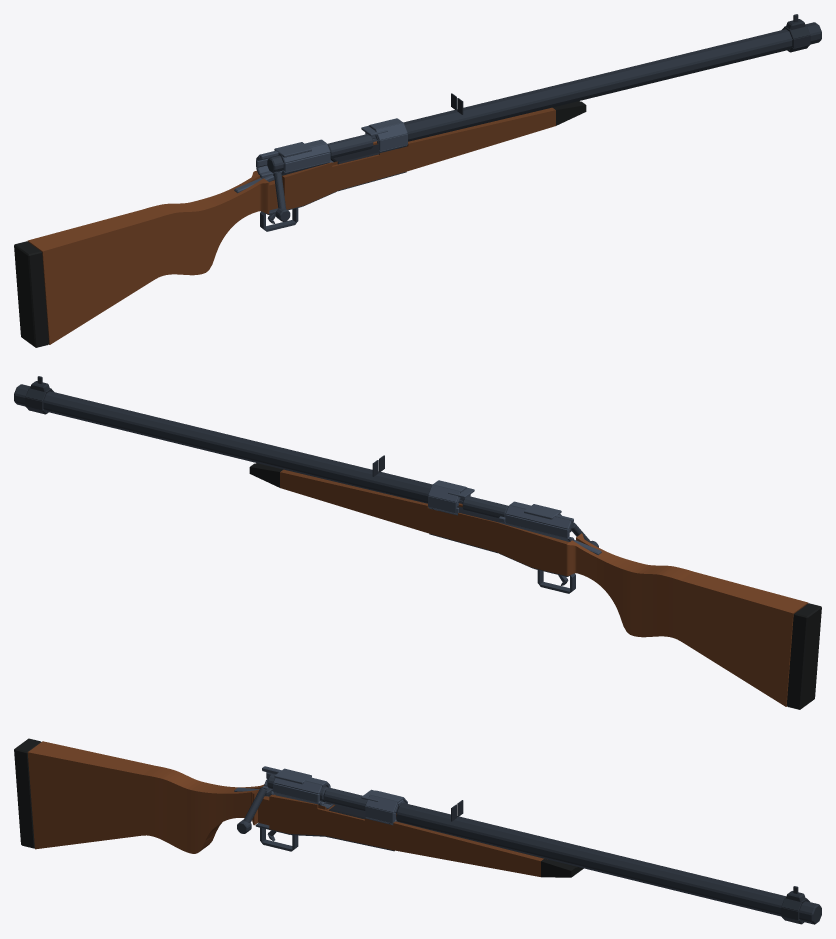
The model's file is rifle_hunting.glb.
3 views of the same model, one above another, from view 1: azimuth 30°, elevation 25°; view 2: azimuth 150°, elevation 25°; view 3: azimuth 330°, elevation 25° (orthographic).
Parts seen in each view (by area): view 1: stock:stock, barrel:barrel, handguard:handguard, receiver:receiver, bolt-carrier:bolt-carrier, lower:lower, front-sight:front-sight; view 2: stock:stock, barrel:barrel, handguard:handguard, receiver:receiver, bolt-carrier:bolt-carrier, front-sight:front-sight, lower:lower; view 3: stock:stock, barrel:barrel, handguard:handguard, receiver:receiver, bolt-carrier:bolt-carrier, lower:lower, front-sight:front-sight.
Boxes of the visible parts, x1,y1,x2,y2 form: stock:stock: [14, 171, 269, 347]; barrel:barrel: [403, 22, 821, 141]; handguard:handguard: [255, 101, 586, 210]; receiver:receiver: [234, 118, 407, 193]; bolt-carrier:bolt-carrier: [267, 134, 373, 176]; lower:lower: [260, 171, 406, 231]; front-sight:front-sight: [782, 14, 810, 52]; stock:stock: [566, 533, 821, 709]; barrel:barrel: [14, 384, 432, 503]; handguard:handguard: [249, 463, 569, 575]; receiver:receiver: [428, 480, 601, 555]; bolt-carrier:bolt-carrier: [462, 496, 571, 532]; front-sight:front-sight: [25, 376, 53, 414]; lower:lower: [429, 533, 575, 593]; stock:stock: [14, 738, 264, 853]; barrel:barrel: [396, 803, 821, 924]; handguard:handguard: [258, 794, 583, 877]; receiver:receiver: [234, 766, 407, 825]; bolt-carrier:bolt-carrier: [265, 774, 367, 811]; lower:lower: [255, 823, 394, 851]; front-sight:front-sight: [781, 886, 809, 924].
Size of the model in its own units: 1.06 by 0.1786 by 0.0673.
